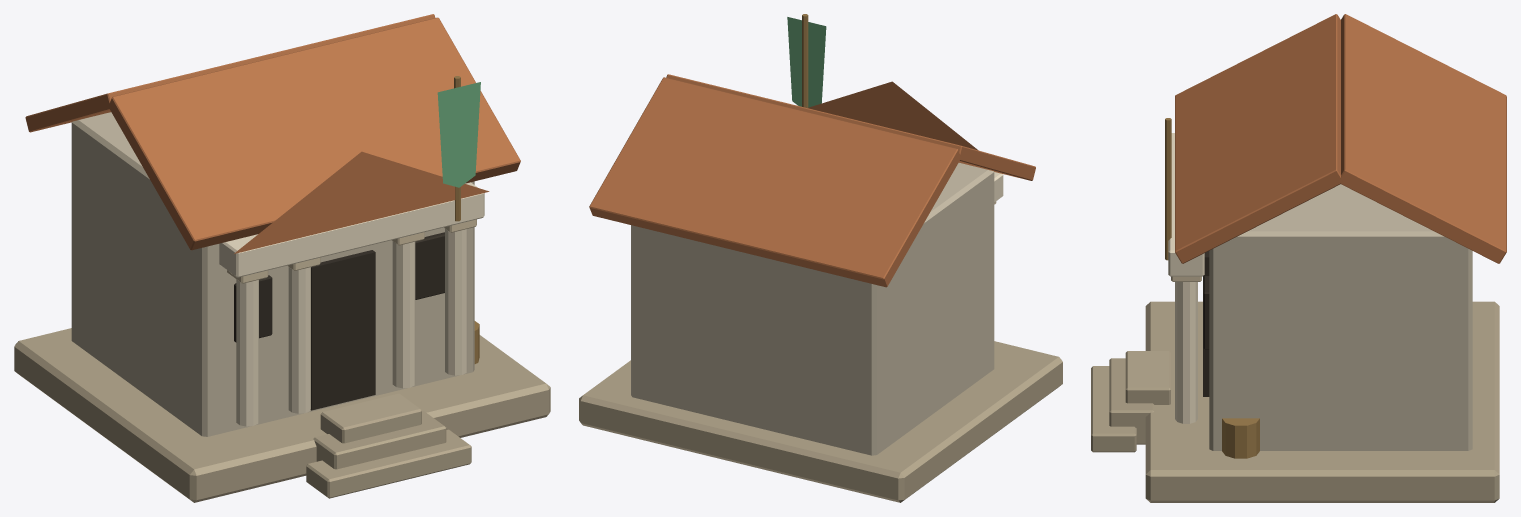
Rendered from edificio-house-e1-CB4IAvmQ.glb.
The picture shows the model from 3 angles, left to right: view 1: azimuth 30°, elevation 25°; view 2: azimuth 150°, elevation 25°; view 3: azimuth 270°, elevation 25°; orthographic projection. The views are drawn at different scales.
Parts seen in each view (by area): view 1: casa_e1_detalles, casa_e1_envolvente, casa_e1_team_color; view 2: casa_e1_envolvente, casa_e1_detalles, casa_e1_team_color; view 3: casa_e1_envolvente, casa_e1_detalles.
Part boxes in pixels (x1,y1,x2,y2): casa_e1_detalles: (25,14,520,426); casa_e1_envolvente: (14,112,550,502); casa_e1_team_color: (437,82,480,187); casa_e1_envolvente: (579,163,1062,502); casa_e1_detalles: (589,14,1035,287); casa_e1_team_color: (787,17,826,107); casa_e1_envolvente: (1091,184,1499,502); casa_e1_detalles: (1165,14,1506,458).
Size of the model in its own units: 45 by 42 by 45.78.
